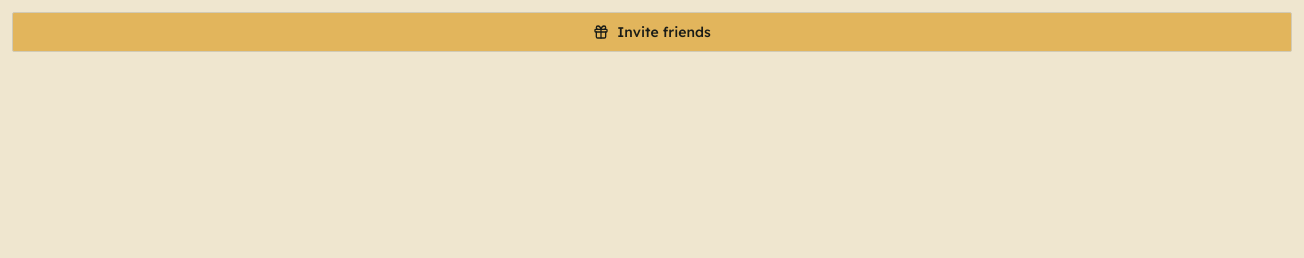
Test: laziness › fetches the code once on open
Step 1. Click the button "Invite friends" → click(652, 32), box left=12, top=12, right=1292, bottom=52
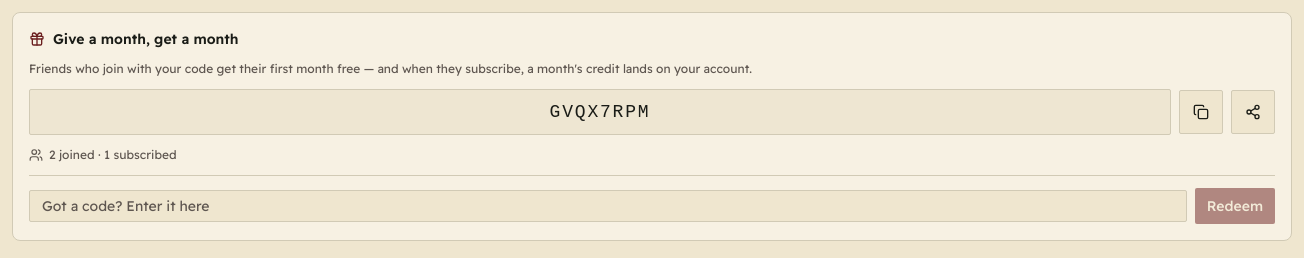
Check: the text "GVQX7RPM" is shown, box left=29, top=89, right=1171, bottom=135
